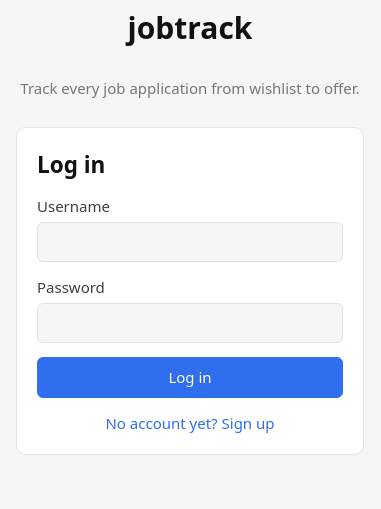
AuthForm › shows a friendly message for a wrong password
Type "said" into the field labelled "Username" at coordinates (190, 242), box [37, 222, 343, 262]
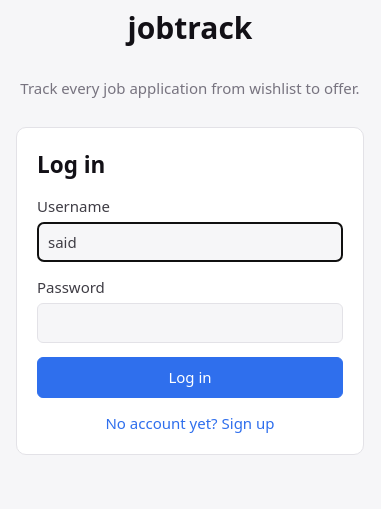
Type "wrong" into the password field labelled "Password" at coordinates (190, 323), box [37, 303, 343, 343]
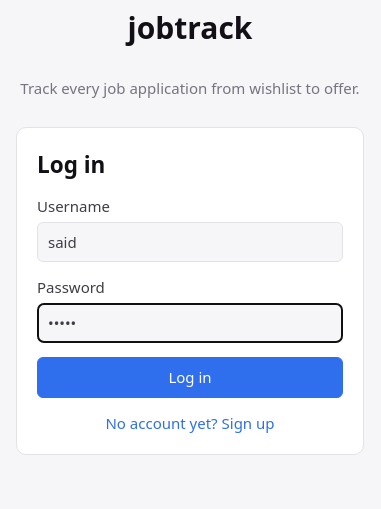
Click the button "Log in" at coordinates (190, 378), box [37, 357, 343, 398]
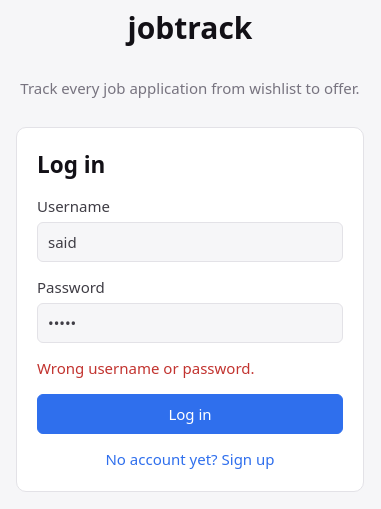
expect the text "Wrong username or password." is shown: met, box [37, 358, 254, 378]
